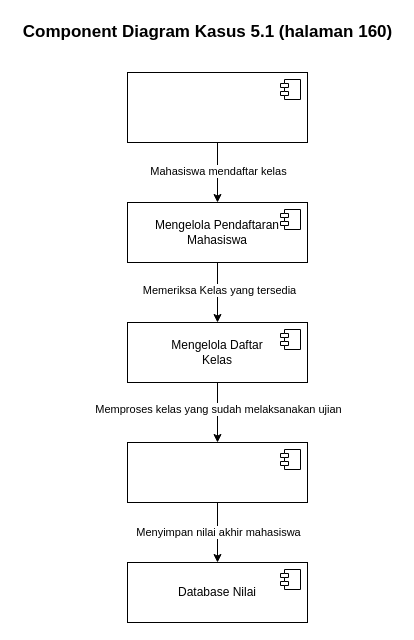
Some shapes in this 414 by 640 pixel diagram are drawn without their labels. The centre of each missing label's shape, as x and y in pixels:
"Mengelola Nilai" goes at [217,472].
"Sistem Pendaftaran Kelas" goes at [217,107].
